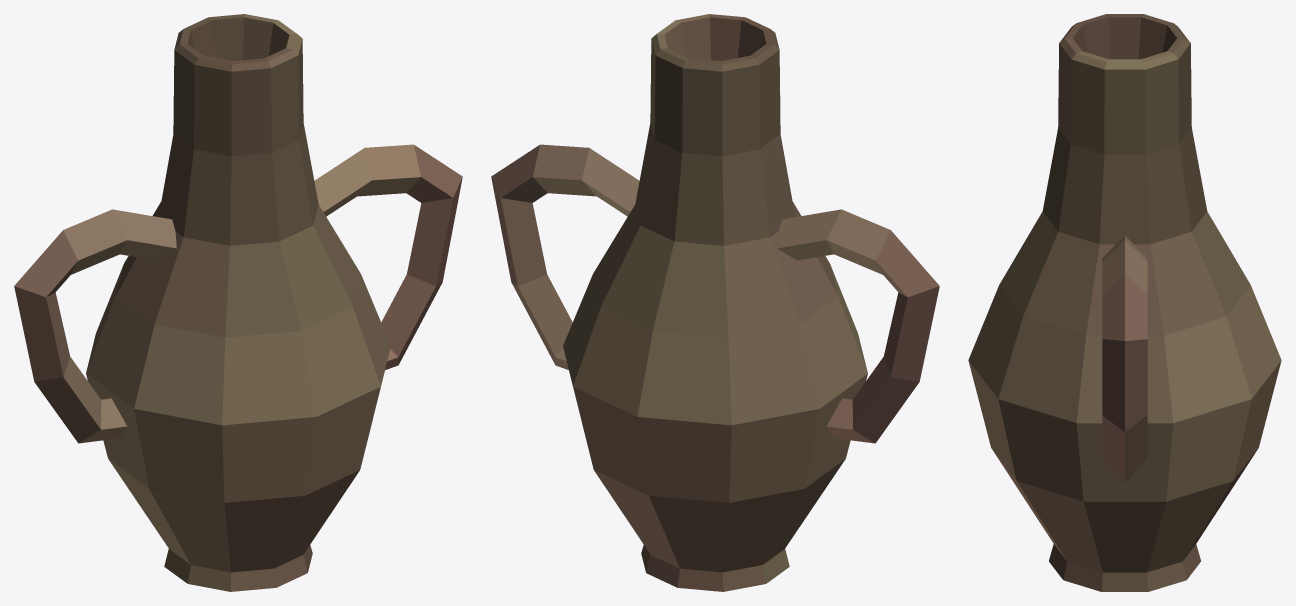
The model's file is Prop_VaseF.fbx.
The picture shows the model from 3 angles, left to right: view 1: azimuth 30°, elevation 25°; view 2: azimuth 150°, elevation 25°; view 3: azimuth 270°, elevation 25°; orthographic projection.
Visible parts, largest first — view 1: Prop_VaseF; view 2: Prop_VaseF; view 3: Prop_VaseF.
Boxes of the visible parts, left/top/right/bottom form: Prop_VaseF: left=14, top=14, right=462, bottom=591; Prop_VaseF: left=491, top=14, right=939, bottom=591; Prop_VaseF: left=968, top=14, right=1281, bottom=591.
Bounding box in the file's own units: 43.43 × 48.17 × 26.15.
